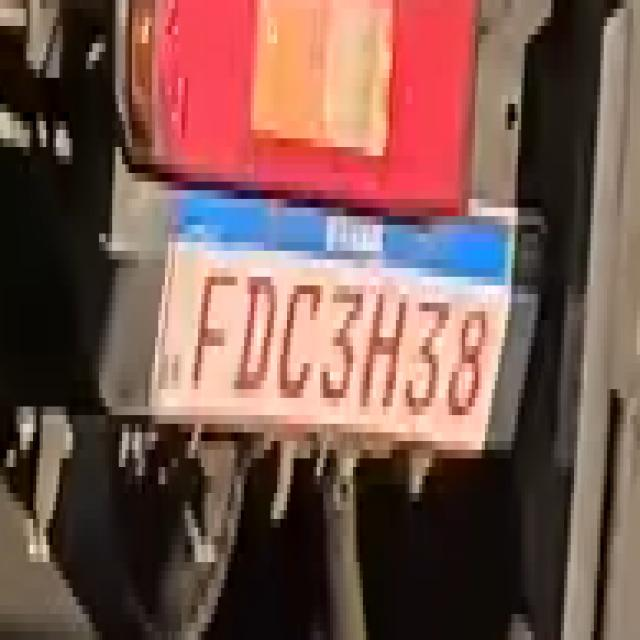Placa_mercosul_carro: (147, 192, 518, 458)
